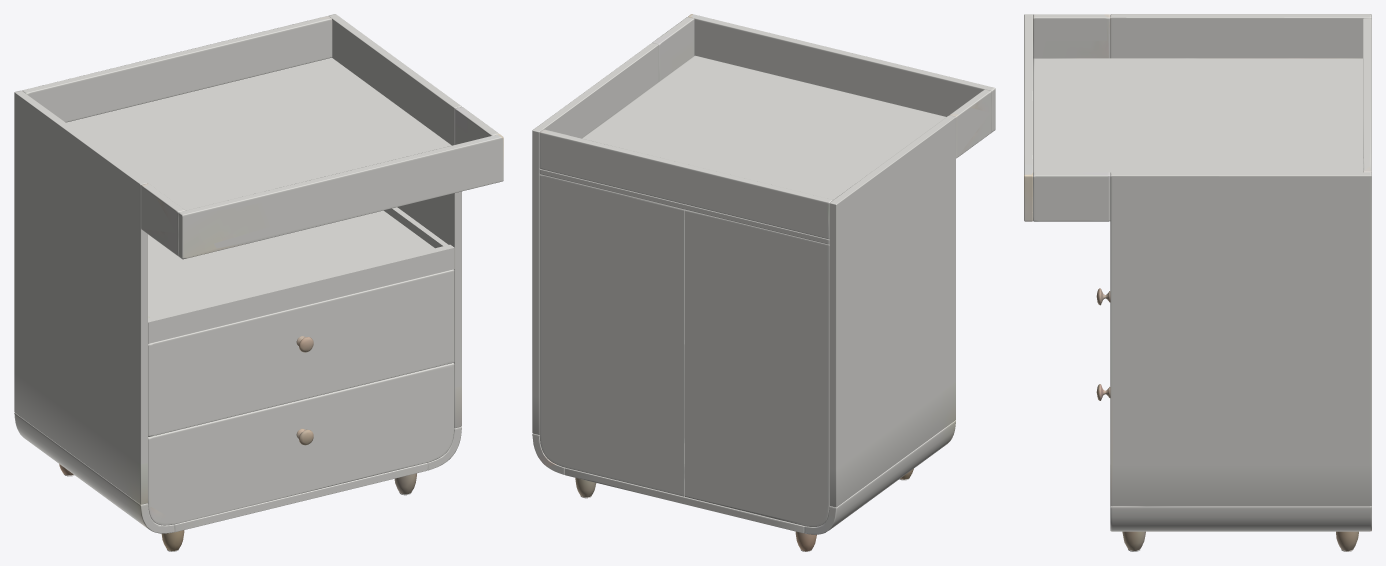
File: myllra_komoda_z_przewijakiem_40595744.glb
The picture shows the model from 3 angles, left to right: view 1: azimuth 30°, elevation 25°; view 2: azimuth 150°, elevation 25°; view 3: azimuth 270°, elevation 25°; orthographic projection. The views are drawn at different scales.
Visible parts, largest first — view 1: myllra_komoda_z_przewijakiem_40595744; view 2: myllra_komoda_z_przewijakiem_40595744; view 3: myllra_komoda_z_przewijakiem_40595744.
Boxes of the visible parts, x1=… form: myllra_komoda_z_przewijakiem_40595744: x1=14, y1=14, x2=503, y2=551; myllra_komoda_z_przewijakiem_40595744: x1=532, y1=14, x2=995, y2=551; myllra_komoda_z_przewijakiem_40595744: x1=1024, y1=14, x2=1371, y2=551.
Bounding box in the file's own units: 0.8499 × 0.97 × 0.7712.
Materials: 1 (1 with a texture image).
